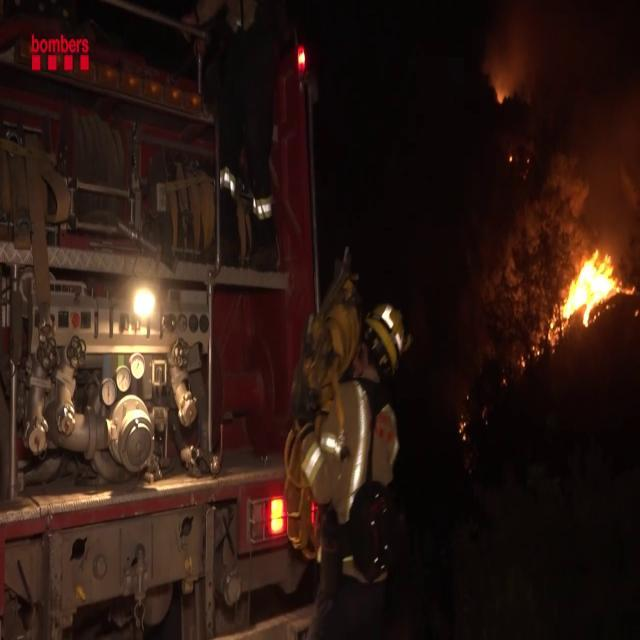Fire: (552, 246, 626, 331)
